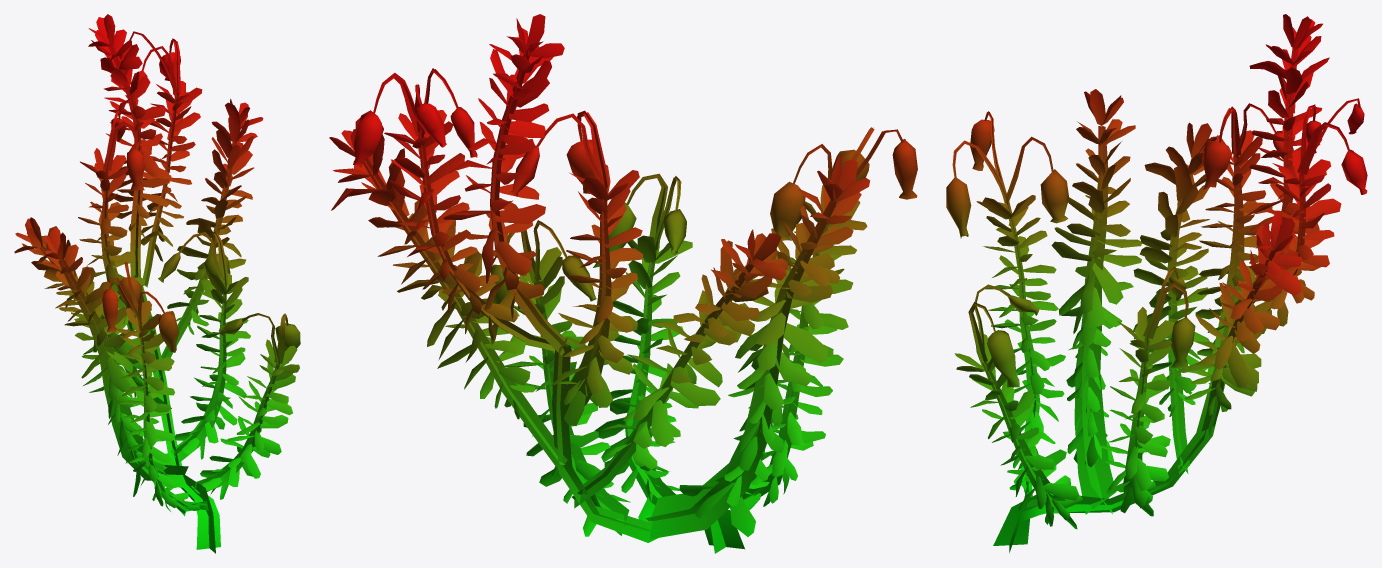
Rendered from Var6_LOD1.fbx.
3 views of the same model, side by side, from view 1: azimuth 30°, elevation 25°; view 2: azimuth 150°, elevation 25°; view 3: azimuth 270°, elevation 25° (orthographic). The views are drawn at different scales.
Parts seen in each view (by area): view 1: _bv4u_Var6_LOD1; view 2: _bv4u_Var6_LOD1; view 3: _bv4u_Var6_LOD1.
Boxes of the visible parts, <box> form: _bv4u_Var6_LOD1: <box>14,14,300,553</box>; _bv4u_Var6_LOD1: <box>329,14,917,553</box>; _bv4u_Var6_LOD1: <box>946,14,1367,552</box>.
Bounding box in the file's own units: 15.98 × 23.55 × 16.56.
